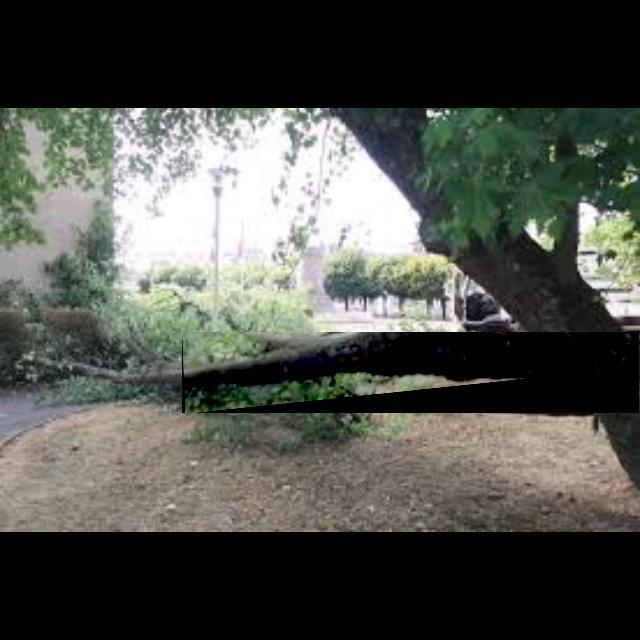fallen_tree: (182, 332, 640, 414)
